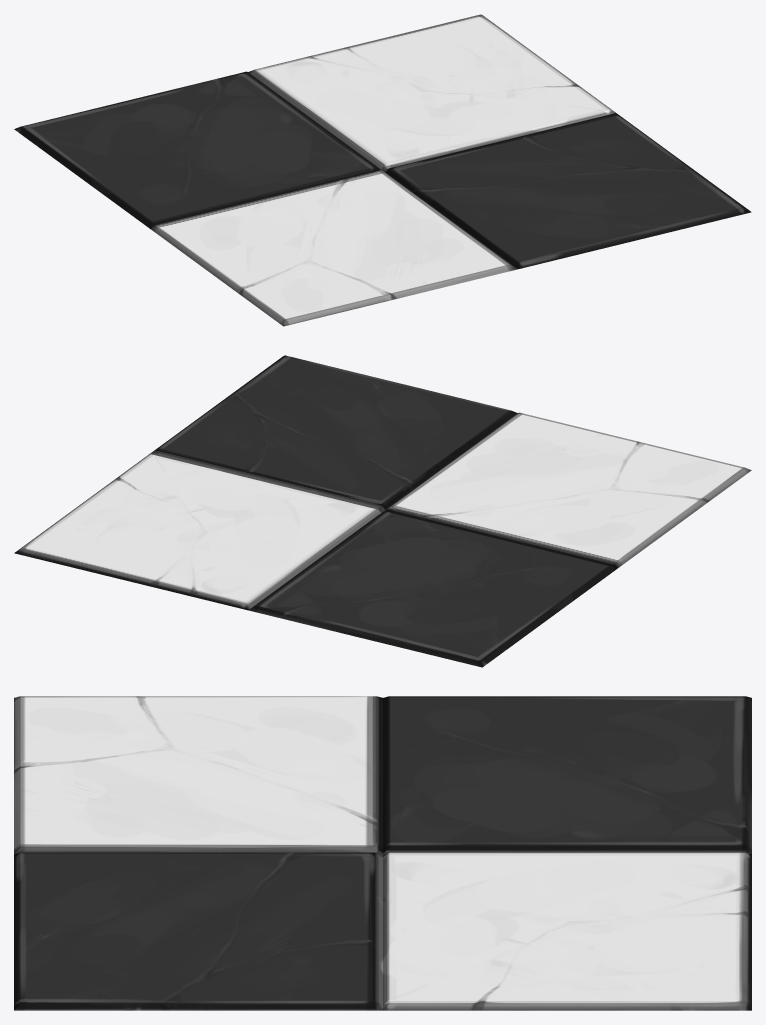
File: Floor_05.FBX
3 views of the same model, one above another, from view 1: azimuth 30°, elevation 25°; view 2: azimuth 150°, elevation 25°; view 3: azimuth 270°, elevation 25° (orthographic). The views are drawn at different scales.
Visible parts, largest first — view 1: Floor_03; view 2: Floor_03; view 3: Floor_03.
Part boxes in pixels (box(x1,y1,x2,y2)): Floor_03: box(14, 14, 751, 326); Floor_03: box(14, 355, 751, 667); Floor_03: box(14, 696, 751, 1010).
Bounding box in the file's own units: 2.78 × 0.0185 × 2.77.
